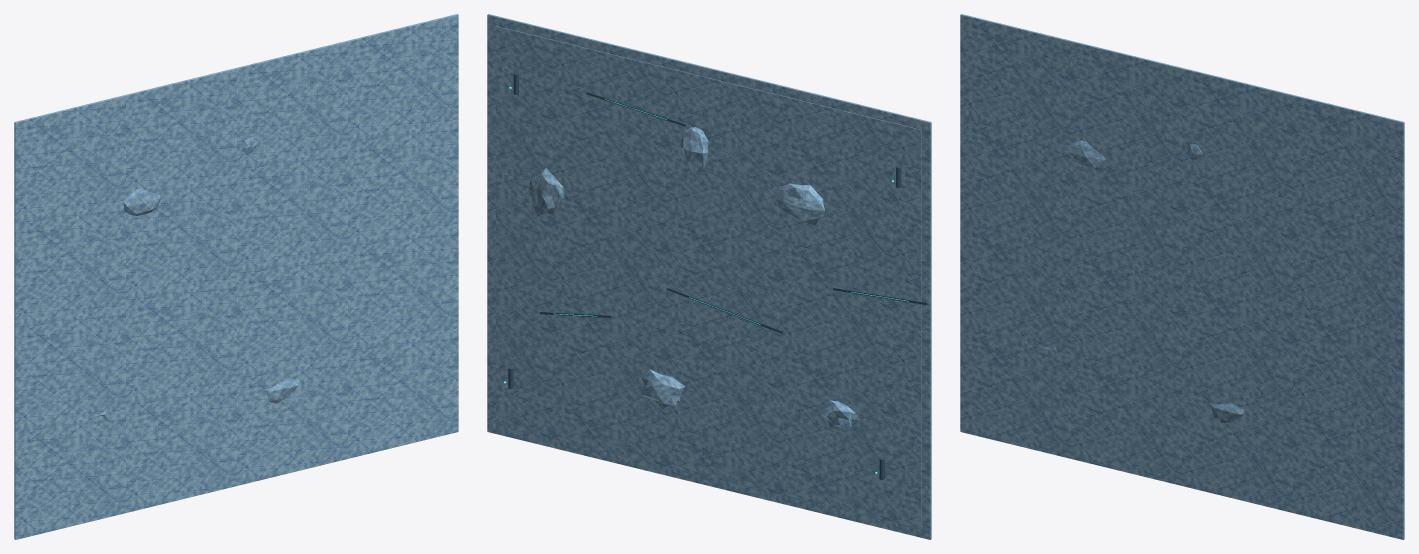
The model's file is lowland_field.glb.
The picture shows the model from 3 angles, left to right: view 1: azimuth 30°, elevation 25°; view 2: azimuth 150°, elevation 25°; view 3: azimuth 330°, elevation 25°; orthographic projection.
Visible parts, largest first — view 1: LowlandBase, LowlandRidge_3; view 2: LowlandSheet, LowlandBase, LowlandRidge_3, LowlandRidge_2, LowlandRidge_1, LowlandRidge_4, LowlandRidge_0; view 3: LowlandBase, LowlandRidge_3.
Boxes of the visible parts, left/top/right/bottom form: LowlandBase: left=14, top=14, right=458, bottom=539; LowlandRidge_3: left=123, top=188, right=160, bottom=215; LowlandSheet: left=496, top=26, right=921, bottom=528; LowlandBase: left=487, top=14, right=931, bottom=539; LowlandRidge_3: left=774, top=183, right=824, bottom=225; LowlandRidge_2: left=529, top=168, right=563, bottom=216; LowlandRidge_1: left=642, top=369, right=684, bottom=409; LowlandRidge_4: left=680, top=127, right=708, bottom=172; LowlandRidge_0: left=821, top=400, right=859, bottom=431; LowlandBase: left=960, top=14, right=1404, bottom=539; LowlandRidge_3: left=1068, top=140, right=1105, bottom=170.
Size of the model in its own units: 80 by 72 by 4.15.
5 materials, 5 textured.
